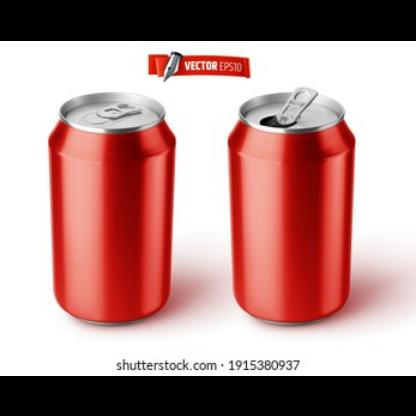Lid_Open: (262, 80, 318, 142)
Tin_Can: (42, 80, 184, 326), (222, 85, 352, 331)
